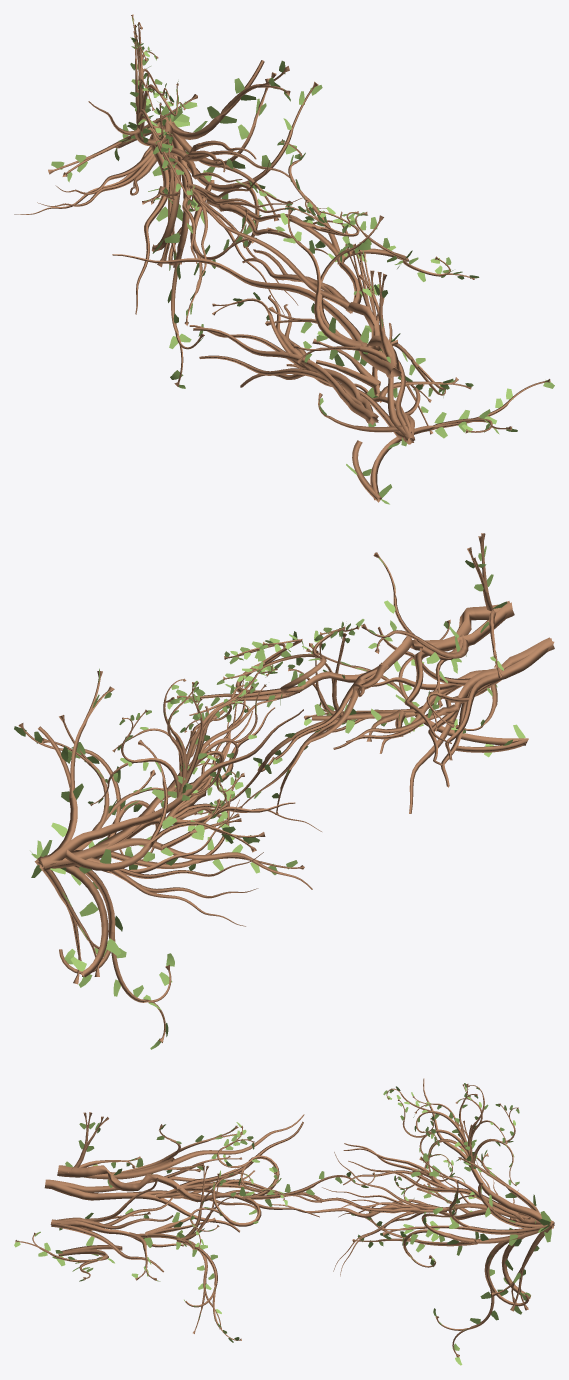
File: 藤曼附材质(3).fbx
The picture shows the model from 3 angles, top to bottom: view 1: azimuth 30°, elevation 25°; view 2: azimuth 150°, elevation 25°; view 3: azimuth 270°, elevation 25°; orthographic projection. The views are drawn at different scales.
Visible parts, largest first — view 1: vineLeafyThick2Main, onion6Main, vineLeafyThick2Leaf, onion4Main, onion2Main, vineLeafyThick3Main, vineLeafyThick7Main, onion5Main, onion3Main, vineLeafy3Main, onion7Main, vineLeafy7Main (+13 smaller); view 2: vineLeafyThick2Main, onion2Main, vineLeafyThick7Main, onion6Main, vineLeafyThick2Leaf, onion4Main, vineLeafyThick3Main, vineLeafyThick7Leaf, onion1Main, vineLeafyThick3Leaf, vineLeafyThick1Main, vineLeafyThick4Main (+12 smaller); view 3: vineLeafyThick2Main, onion6Main, onion2Main, vineLeafyThick7Main, onion5Main, vineLeafyThick2Leaf, onion4Main, vineLeafyThick3Main, vineLeafyThick4Main, vineLeafyThick7Leaf, onion7Main, onion3Main (+14 smaller).
Part boxes in pixels (<box>): vineLeafyThick2Main: <box>151,60,318,386</box>; onion6Main: <box>112,211,401,378</box>; vineLeafyThick2Leaf: <box>152,60,322,388</box>; onion4Main: <box>193,327,378,425</box>; onion2Main: <box>88,101,242,314</box>; vineLeafyThick3Main: <box>281,139,474,279</box>; vineLeafyThick7Main: <box>131,14,195,211</box>; onion5Main: <box>286,297,424,444</box>; onion3Main: <box>186,160,326,315</box>; vineLeafy3Main: <box>265,208,383,346</box>; onion7Main: <box>199,201,352,313</box>; vineLeafy7Main: <box>352,379,550,502</box>; vineLeafyThick2Main: <box>18,671,171,1042</box>; onion2Main: <box>38,709,312,889</box>; vineLeafyThick7Main: <box>90,665,272,807</box>; onion6Main: <box>189,601,514,743</box>; vineLeafyThick2Leaf: <box>14,668,174,1049</box>; onion4Main: <box>409,637,554,813</box>; vineLeafyThick3Main: <box>166,625,359,702</box>; vineLeafyThick7Leaf: <box>88,661,273,807</box>; onion1Main: <box>86,799,263,926</box>; vineLeafyThick3Leaf: <box>167,619,364,709</box>; vineLeafyThick1Main: <box>65,740,265,870</box>; vineLeafyThick4Main: <box>194,633,351,814</box>; vineLeafyThick2Main: <box>381,1156,552,1357</box>; onion6Main: <box>57,1114,319,1217</box>; onion2Main: <box>348,1078,554,1229</box>; vineLeafyThick7Main: <box>386,1084,518,1202</box>; onion5Main: <box>50,1177,183,1272</box>; vineLeafyThick2Leaf: <box>402,1153,551,1365</box>; onion4Main: <box>44,1168,245,1232</box>; vineLeafyThick3Main: <box>190,1125,374,1248</box>; vineLeafyThick4Main: <box>176,1166,241,1340</box>; vineLeafyThick7Leaf: <box>383,1083,519,1200</box>; onion7Main: <box>176,1121,322,1202</box>; onion3Main: <box>322,1152,446,1276</box>.
Size of the model in its own units: 632 by 707 by 1295.
